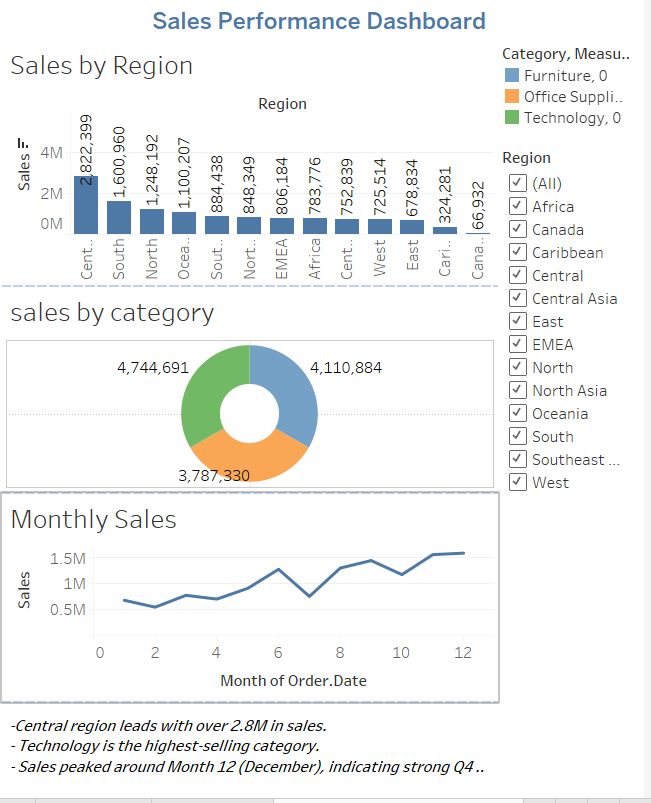

Layout of this report page (visuals, bound fields, positions):
{"tool":"tableau","page":{"name":"Sales Performance Dashboard","canvas":[650,860],"ordinal":0},"visuals":[{"type":"text","box":[8,8.6,634,37.5]},{"type":"worksheet","title":"sales by region","mark":"Automatic","rows":["Sales"],"cols":["Region"],"box":[8,46.1,496,265.4]},{"type":"legend","title":"sales by category","param":"[federated.1h6chzr0tujgbi18h72b700uco5w].[none:Category:nk]\n[federated.1h6chzr0t","box":[504,46.1,138,111.5]},{"type":"filter","title":"sales by region","param":"[federated.1h6chzr0tujgbi18h72b700uco5w].[none:Region:nk]","box":[504,157.6,138,445]},{"type":"worksheet","title":"sales by category","mark":"Pie","rows":["Calculation_1221601419425439745","Calculation_1221601419426037765"],"cols":["Calculation_1221601419425452035"],"box":[8,311.5,496,221.3]},{"type":"worksheet","title":"Monthly Sales","mark":"Automatic","rows":["Sales"],"cols":["Order.Date"],"box":[8,532.8,496,224.3]},{"type":"text","box":[8,757.1,496,94.4]}]}

Visuals, with their boxes on the page's 650x860 design canvas (x1, y1, x2, y2). These are canvas units, not pixel positions in the 651x803 screenshot, which may show the page scaled, cropped or inside an application window:
text: x1=8 y1=9 x2=642 y2=46
"sales by region" worksheet: x1=8 y1=46 x2=504 y2=312
"sales by category" legend: x1=504 y1=46 x2=642 y2=158
"sales by region" filter: x1=504 y1=158 x2=642 y2=603
"sales by category" worksheet (Pie marks): x1=8 y1=312 x2=504 y2=533
"Monthly Sales" worksheet: x1=8 y1=533 x2=504 y2=757
text: x1=8 y1=757 x2=504 y2=852
